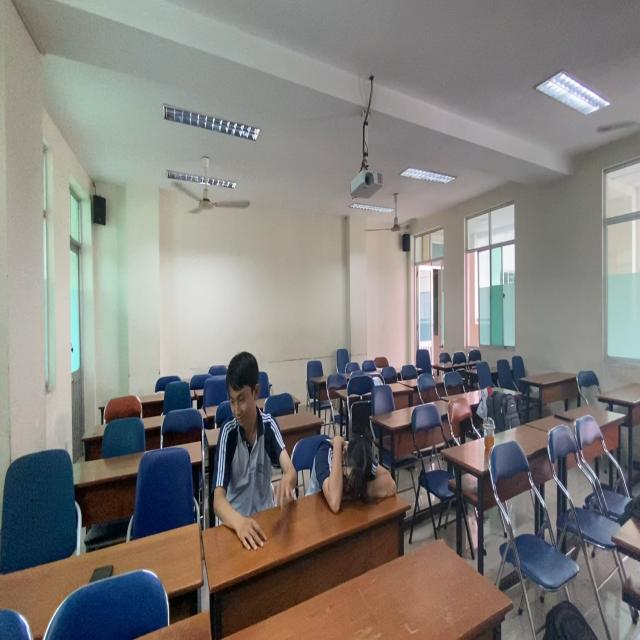sleep: (306, 414, 404, 536)
